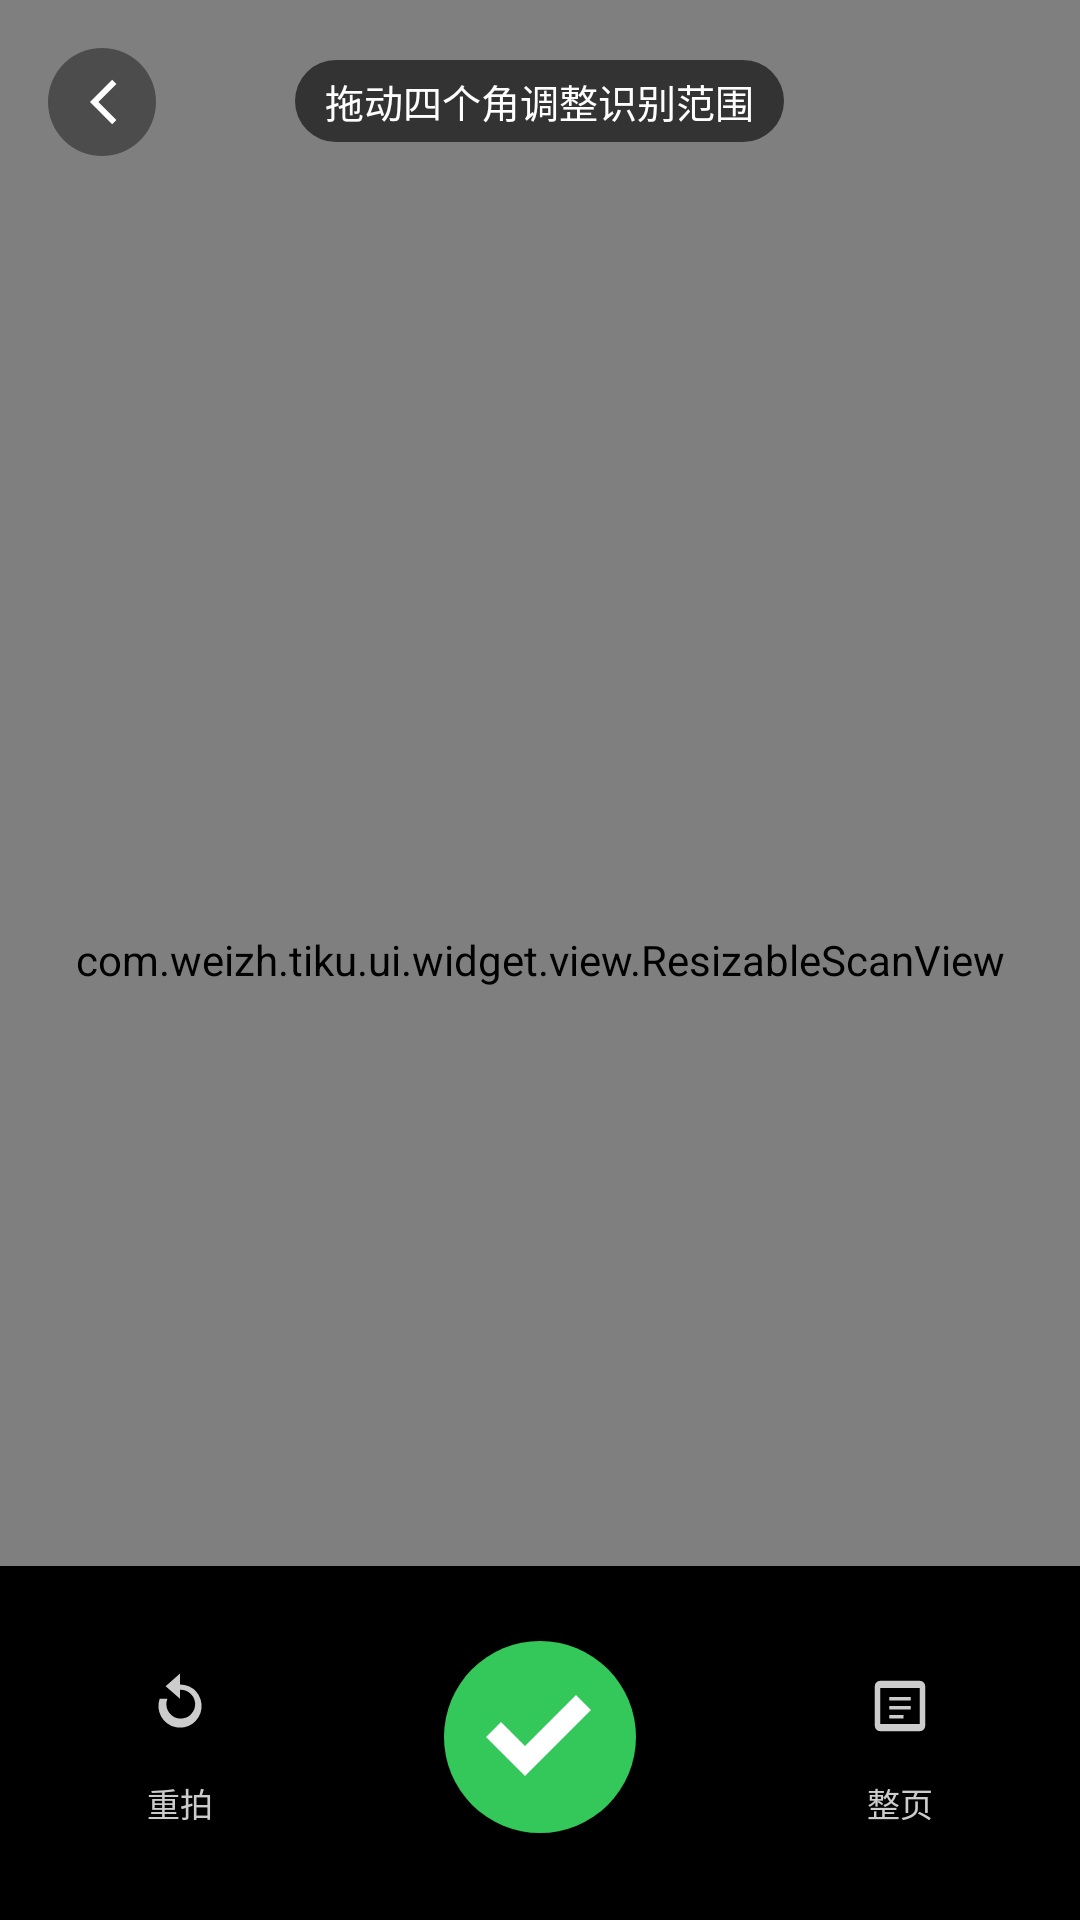

Screen size 1080px×1920px. Icon name, then its box in pixels as (x1, y1, x2, y2):
back: (48, 48, 156, 156)
confirm: (444, 1641, 636, 1833)
full page: (874, 1680, 926, 1732)
retake: (158, 1673, 202, 1728)
